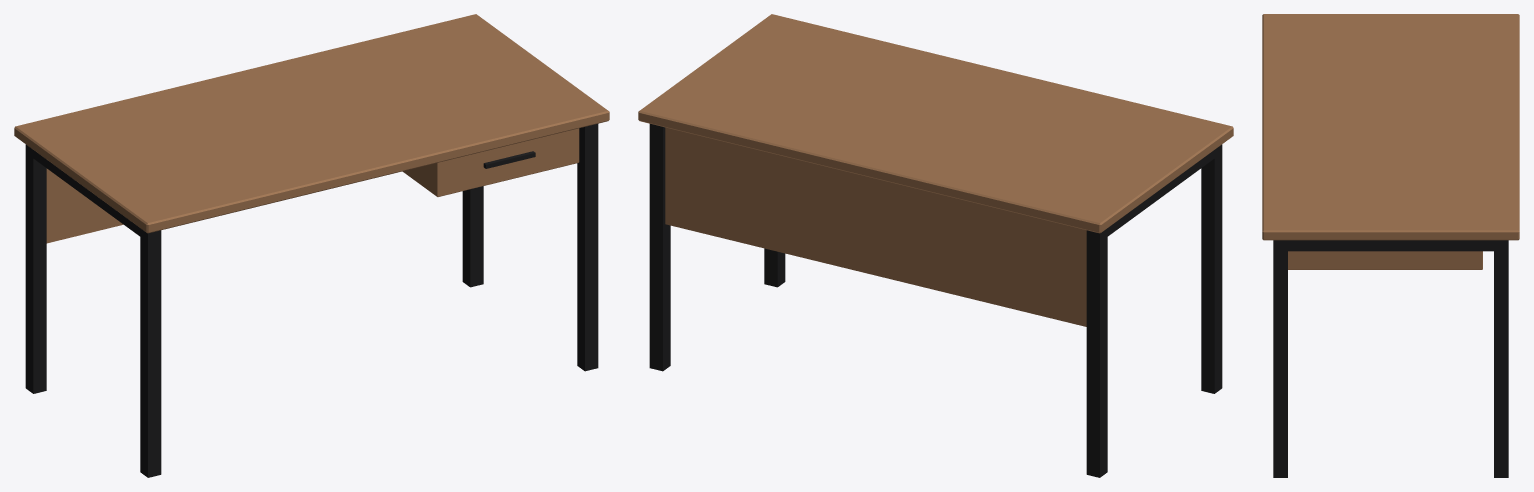
The model's file is 17_biurko_140.glb.
3 renders of one model, left to right at view 1: azimuth 30°, elevation 25°; view 2: azimuth 150°, elevation 25°; view 3: azimuth 270°, elevation 25°, orthographic. The views are drawn at different scales.
Visible parts, largest first — view 1: Biurko_blat, Biurko_nogi, Biurko_szuflada, Biurko_oslona; view 2: Biurko_blat, Biurko_oslona, Biurko_nogi; view 3: Biurko_blat, Biurko_nogi, Biurko_szuflada.
Boxes of the visible parts, <box> form: Biurko_blat: <box>14,14,609,233</box>; Biurko_nogi: <box>25,124,598,477</box>; Biurko_szuflada: <box>402,128,579,196</box>; Biurko_oslona: <box>46,168,123,243</box>; Biurko_blat: <box>638,14,1233,233</box>; Biurko_oslona: <box>665,127,1086,326</box>; Biurko_nogi: <box>649,124,1222,477</box>; Biurko_blat: <box>1262,14,1519,240</box>; Biurko_nogi: <box>1273,240,1508,477</box>; Biurko_szuflada: <box>1288,251,1482,269</box>.
Size of the model in its own units: 1.4 by 0.75 by 0.7.
